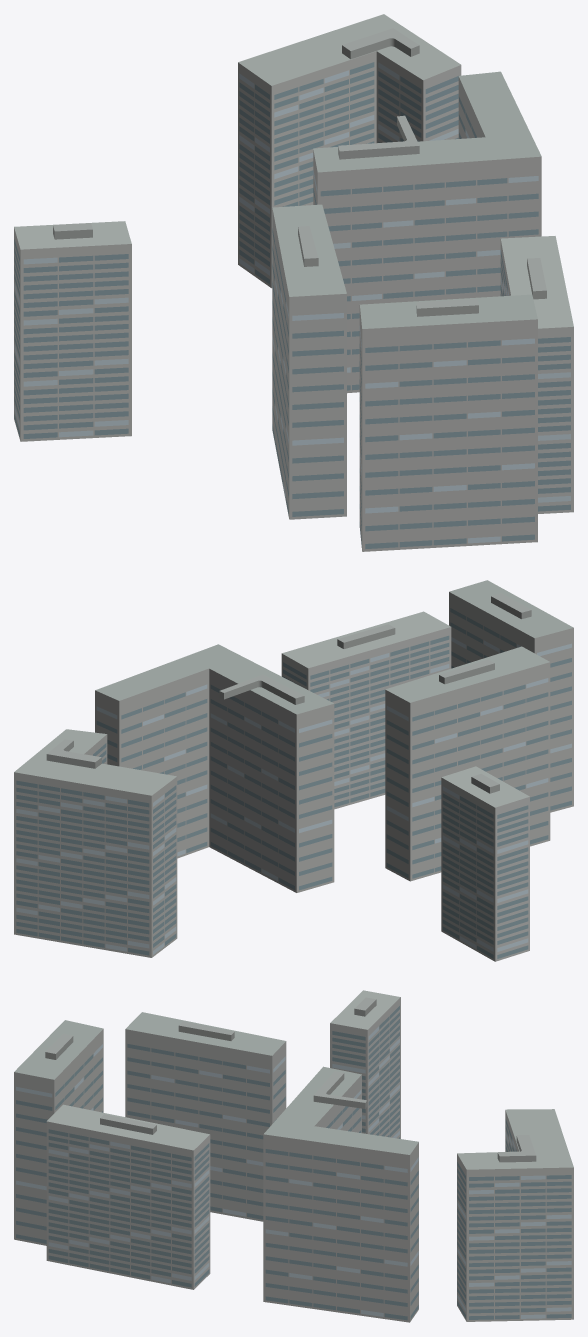
The model's file is apt-a13082703.glb.
3 renders of one model, top to bottom at view 1: azimuth 30°, elevation 25°; view 2: azimuth 150°, elevation 25°; view 3: azimuth 270°, elevation 25°, orthographic. The views are drawn at different scales.
Visible parts, largest first — view 1: apt-a13082703; view 2: apt-a13082703; view 3: apt-a13082703.
Part boxes in pixels (x1=…): apt-a13082703: x1=14, y1=14, x2=573, y2=551; apt-a13082703: x1=14, y1=580, x2=573, y2=961; apt-a13082703: x1=14, y1=990, x2=573, y2=1322.
Size of the model in its own units: 158 by 68 by 199.
